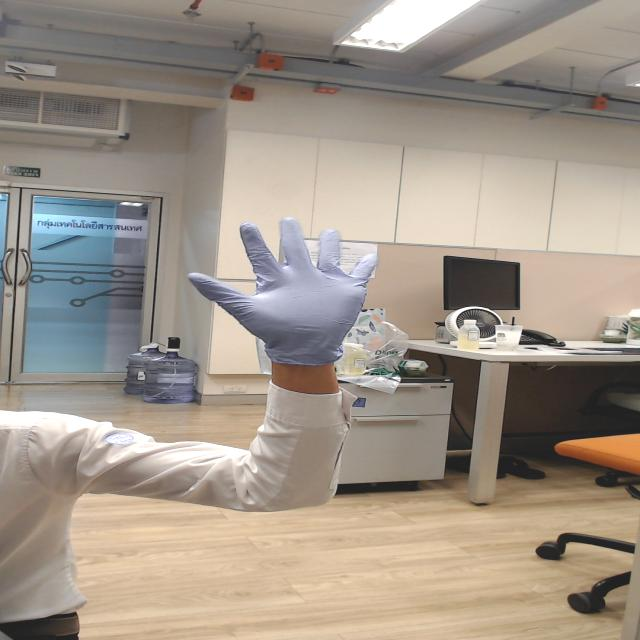glove: (174, 211, 396, 340)
